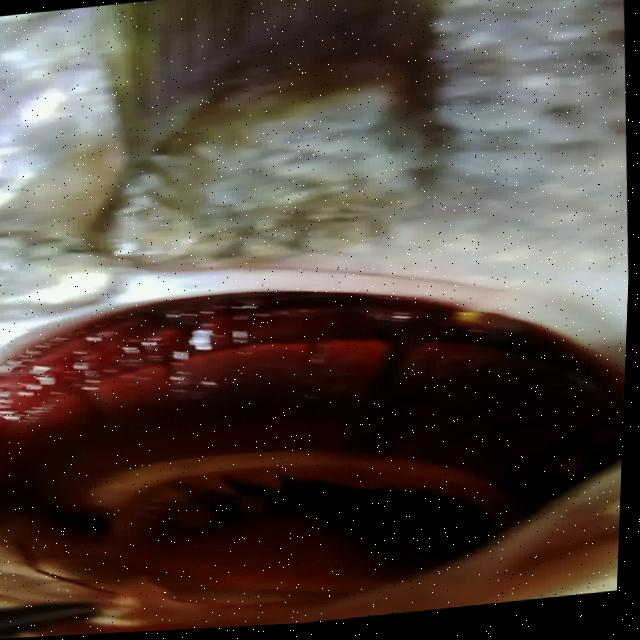Fresh: (0, 250, 622, 640)
